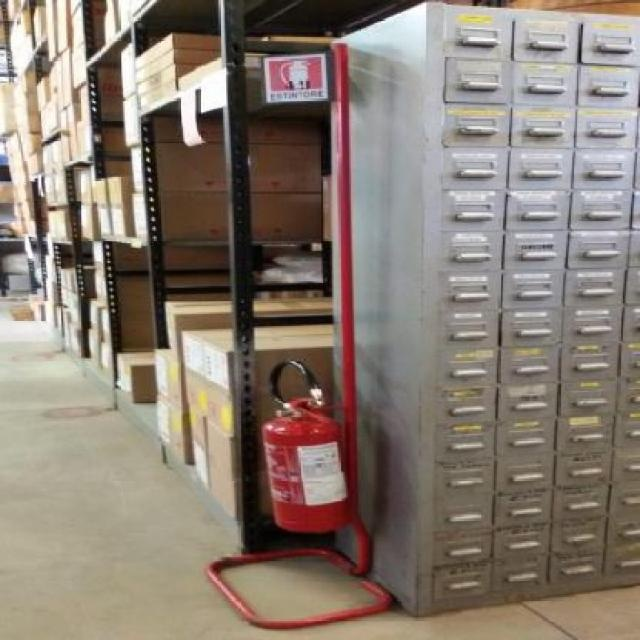fire extinguisher: (261, 359, 354, 533)
